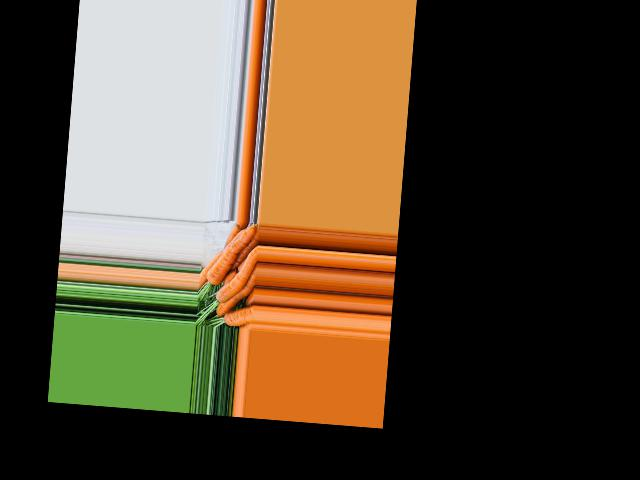carrot: (218, 305, 252, 330)
